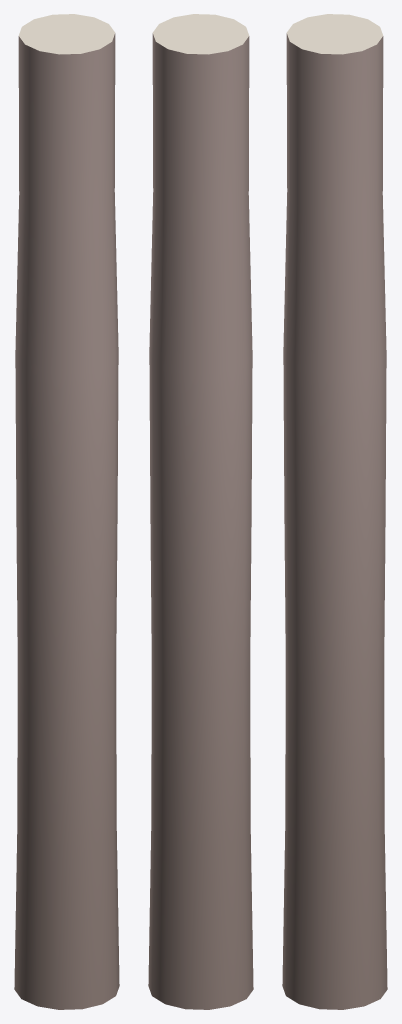
File: post3_wood.glb
3 views of the same model, side by side, from view 1: azimuth 30°, elevation 25°; view 2: azimuth 150°, elevation 25°; view 3: azimuth 330°, elevation 25° (orthographic).
Visible parts, largest first — view 1: post3_wood; view 2: post3_wood; view 3: post3_wood.
Boxes of the visible parts, <box> form: post3_wood: <box>14,14,119,1009</box>; post3_wood: <box>148,14,253,1009</box>; post3_wood: <box>282,14,387,1009</box>.
Bounding box in the file's own units: 0.3 × 3 × 0.2925.
